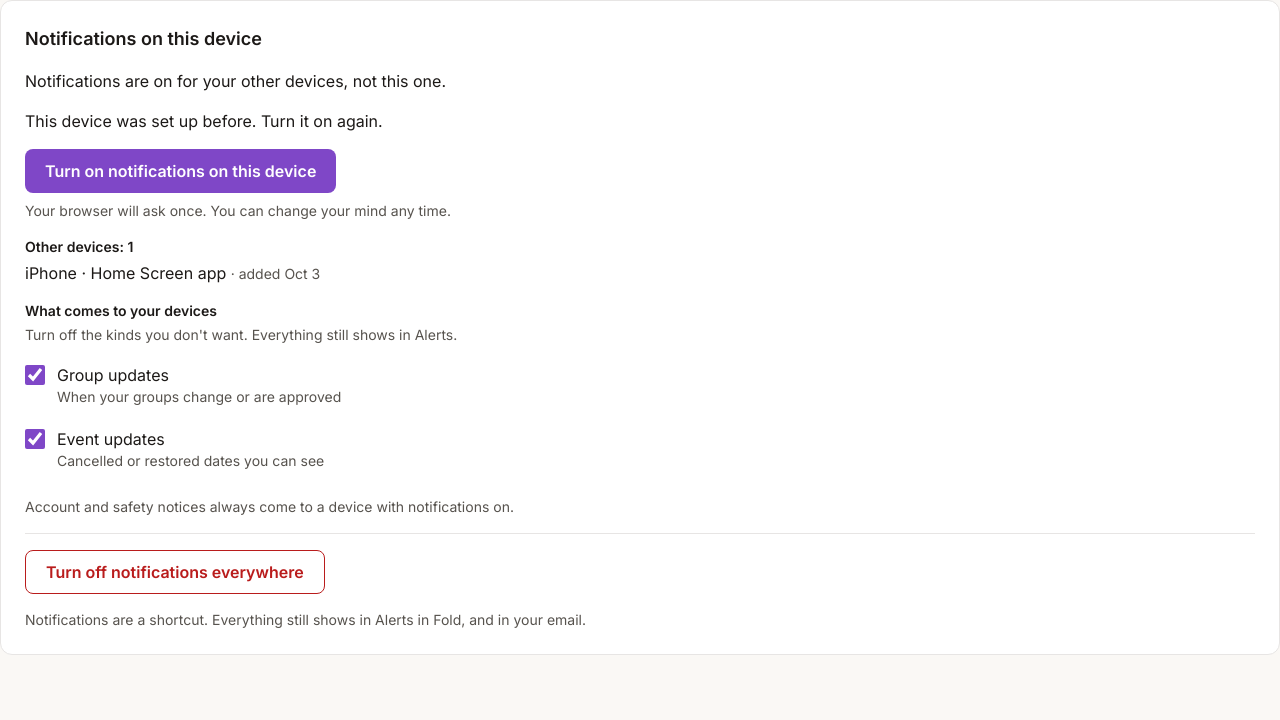
re-saving on load › re-saves only for the person the browser says the subscription belongs to
Check: the text "This device was set up before. Turn it on again." is shown, box x1=25 y1=111 x2=383 y2=131
// A tap decides: the device is saved for this person, who now owns it here.
Click the button "Turn on notifications on this device" at (181, 171), box x1=25 y1=149 x2=336 y2=193
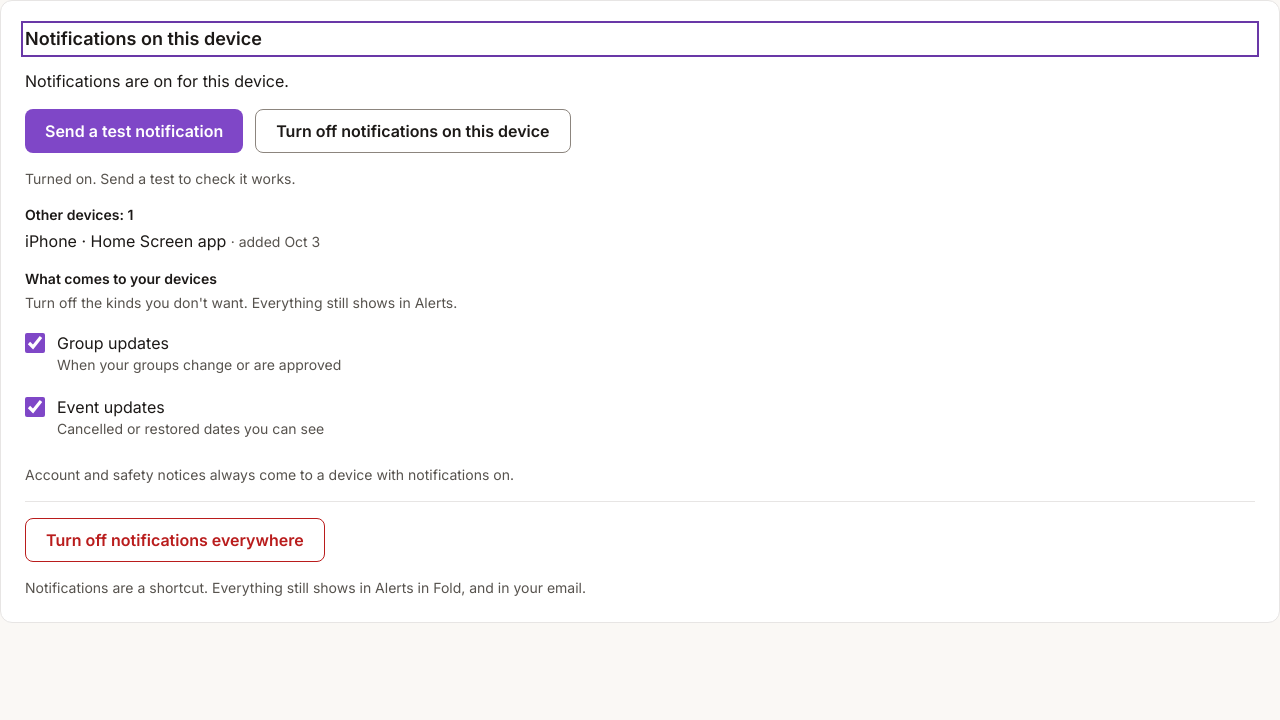
Check: the button "Send a test notification" is shown, box x1=25 y1=109 x2=243 y2=153
